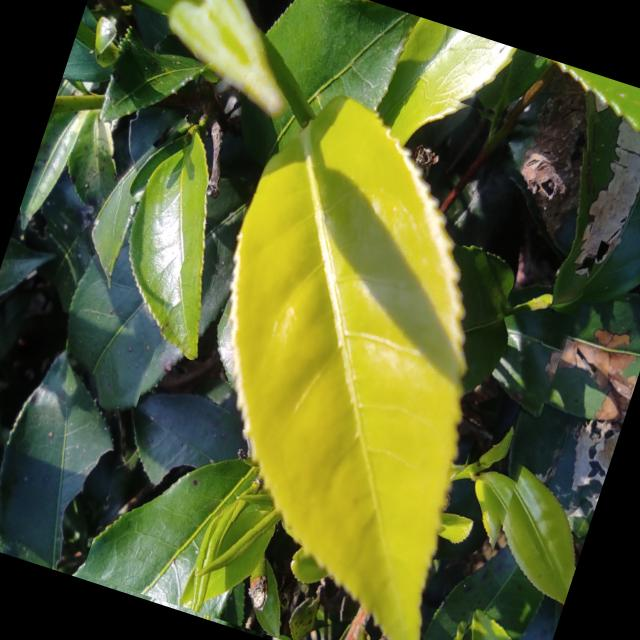Category B(2-4 days): (81, 26, 633, 640)
